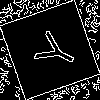Y: (25, 25, 80, 75)
